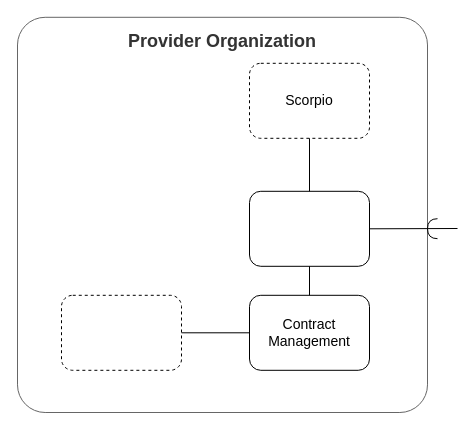
Some shapes in this 476 by 431 pixel diagram are drawn without their labels. The box of each missing label's shape, as (x1, y1, x2, y2) in pixels:
TMForum API: (248, 190, 370, 266)
Trusted Issuers List: (60, 294, 182, 370)
